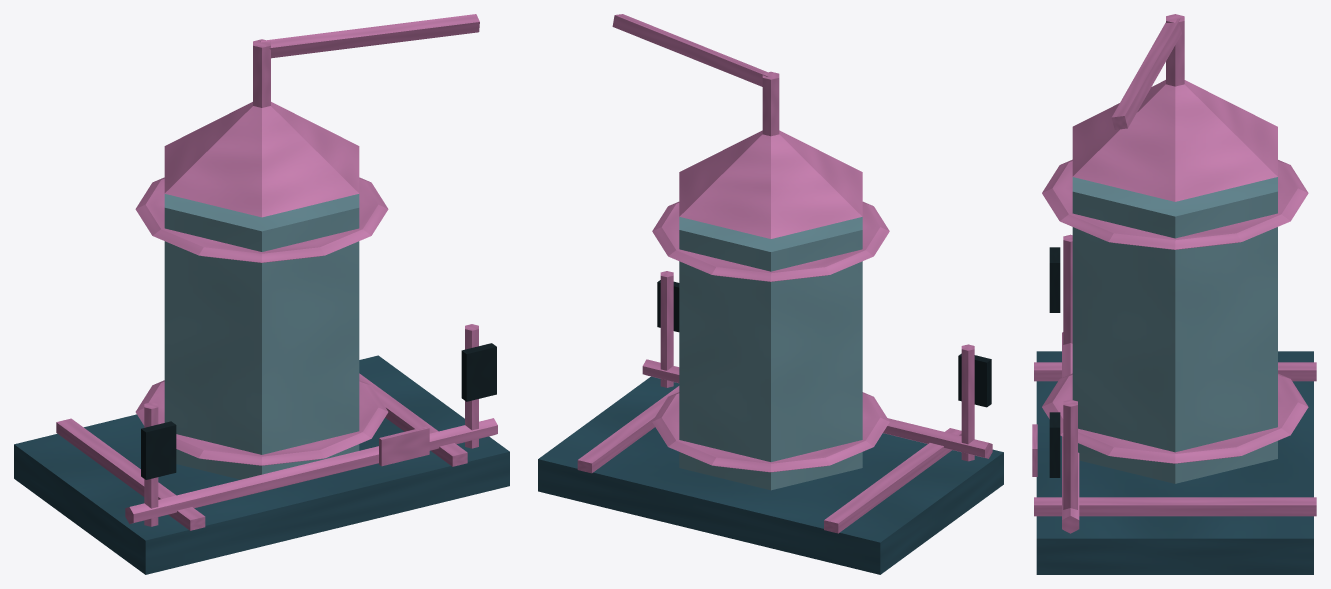
File: atlas100-s067-a02.lod1.glb
3 renders of one model, left to right at view 1: azimuth 30°, elevation 25°; view 2: azimuth 150°, elevation 25°; view 3: azimuth 270°, elevation 25°, orthographic. The views are drawn at different scales.
Parts seen in each view (by area): view 1: atlas100-s067-a02:part-003, atlas100-s067-a02:part-000, atlas100-s067-a02:part-007, atlas100-s067-a02:part-005, atlas100-s067-a02:part-014, atlas100-s067-a02:part-004, atlas100-s067-a02:part-009, atlas100-s067-a02:part-001, atlas100-s067-a02:part-013, atlas100-s067-a02:part-011, atlas100-s067-a02:part-002, atlas100-s067-a02:part-015 (+3 smaller); view 2: atlas100-s067-a02:part-003, atlas100-s067-a02:part-000, atlas100-s067-a02:part-007, atlas100-s067-a02:part-004, atlas100-s067-a02:part-005, atlas100-s067-a02:part-001, atlas100-s067-a02:part-009, atlas100-s067-a02:part-014, atlas100-s067-a02:part-002, atlas100-s067-a02:part-010, atlas100-s067-a02:part-012, atlas100-s067-a02:part-008 (+1 smaller); view 3: atlas100-s067-a02:part-003, atlas100-s067-a02:part-000, atlas100-s067-a02:part-007, atlas100-s067-a02:part-005, atlas100-s067-a02:part-004, atlas100-s067-a02:part-002, atlas100-s067-a02:part-009, atlas100-s067-a02:part-012, atlas100-s067-a02:part-001, atlas100-s067-a02:part-010, atlas100-s067-a02:part-014, atlas100-s067-a02:part-008 (+2 smaller).
Boxes of the visible parts, <box> form: atlas100-s067-a02:part-003: <box>164,194,359,479</box>; atlas100-s067-a02:part-000: <box>14,355,509,574</box>; atlas100-s067-a02:part-007: <box>164,102,359,217</box>; atlas100-s067-a02:part-005: <box>135,177,388,262</box>; atlas100-s067-a02:part-014: <box>125,418,497,523</box>; atlas100-s067-a02:part-004: <box>135,380,388,465</box>; atlas100-s067-a02:part-009: <box>260,14,479,58</box>; atlas100-s067-a02:part-001: <box>56,418,205,530</box>; atlas100-s067-a02:part-013: <box>461,343,496,401</box>; atlas100-s067-a02:part-011: <box>141,421,176,479</box>; atlas100-s067-a02:part-002: <box>359,373,467,466</box>; atlas100-s067-a02:part-015: <box>379,426,429,466</box>; atlas100-s067-a02:part-003: <box>679,217,862,490</box>; atlas100-s067-a02:part-000: <box>538,376,1003,574</box>; atlas100-s067-a02:part-007: <box>679,130,862,238</box>; atlas100-s067-a02:part-004: <box>652,392,889,472</box>; atlas100-s067-a02:part-005: <box>652,201,889,281</box>; atlas100-s067-a02:part-001: <box>824,428,961,533</box>; atlas100-s067-a02:part-009: <box>612,14,768,86</box>; atlas100-s067-a02:part-014: <box>642,359,992,458</box>; atlas100-s067-a02:part-002: <box>577,386,679,473</box>; atlas100-s067-a02:part-010: <box>961,344,974,461</box>; atlas100-s067-a02:part-012: <box>660,271,673,387</box>; atlas100-s067-a02:part-008: <box>762,71,779,136</box>; atlas100-s067-a02:part-003: <box>1072,177,1277,483</box>; atlas100-s067-a02:part-000: <box>1036,351,1313,574</box>; atlas100-s067-a02:part-007: <box>1072,80,1277,201</box>; atlas100-s067-a02:part-005: <box>1042,159,1308,249</box>; atlas100-s067-a02:part-004: <box>1042,373,1308,463</box>; atlas100-s067-a02:part-002: <box>1034,497,1316,516</box>; atlas100-s067-a02:part-009: <box>1111,18,1181,129</box>; atlas100-s067-a02:part-012: <box>1063,399,1077,509</box>; atlas100-s067-a02:part-001: <box>1034,362,1316,381</box>; atlas100-s067-a02:part-010: <box>1063,234,1072,344</box>; atlas100-s067-a02:part-014: <box>1062,332,1079,533</box>; atlas100-s067-a02:part-008: <box>1166,14,1184,86</box>.
Bounding box in the file's own units: 2.95 × 3.32 × 1.85.
5 materials, 5 textured.
